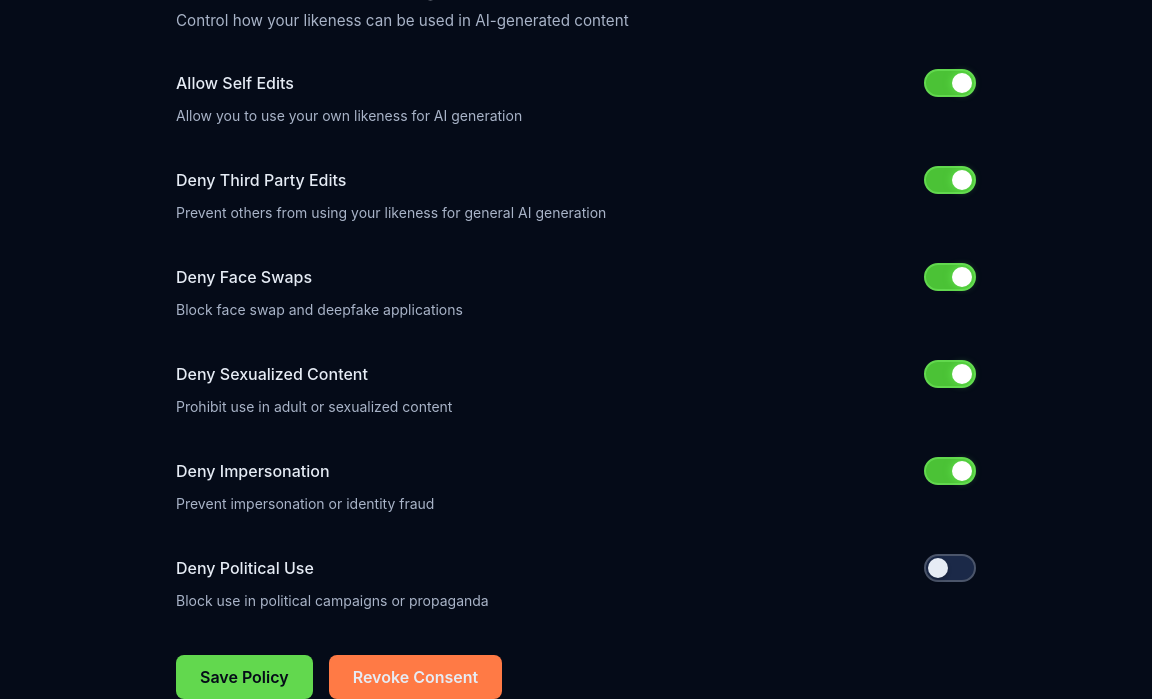
Test case: PolicyForm › clears success message when user makes changes
This screenshot has width=1152, height=699.
Step 1. Click the button "Save Policy" → click(244, 677), box [176,655,313,698]
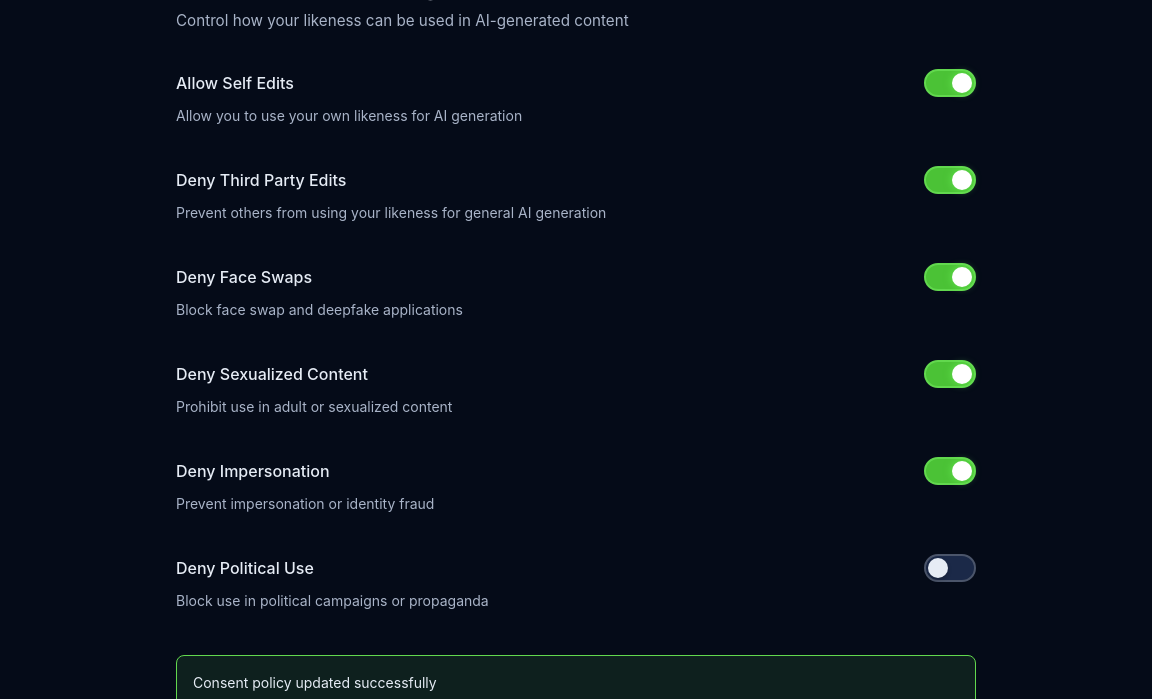
expect the text "Consent policy updated successfully" is shown: met, box [193,674,437,691]
Step 2. Click the switch named "Deny Political Use" → click(950, 568), box [924,554,976,582]
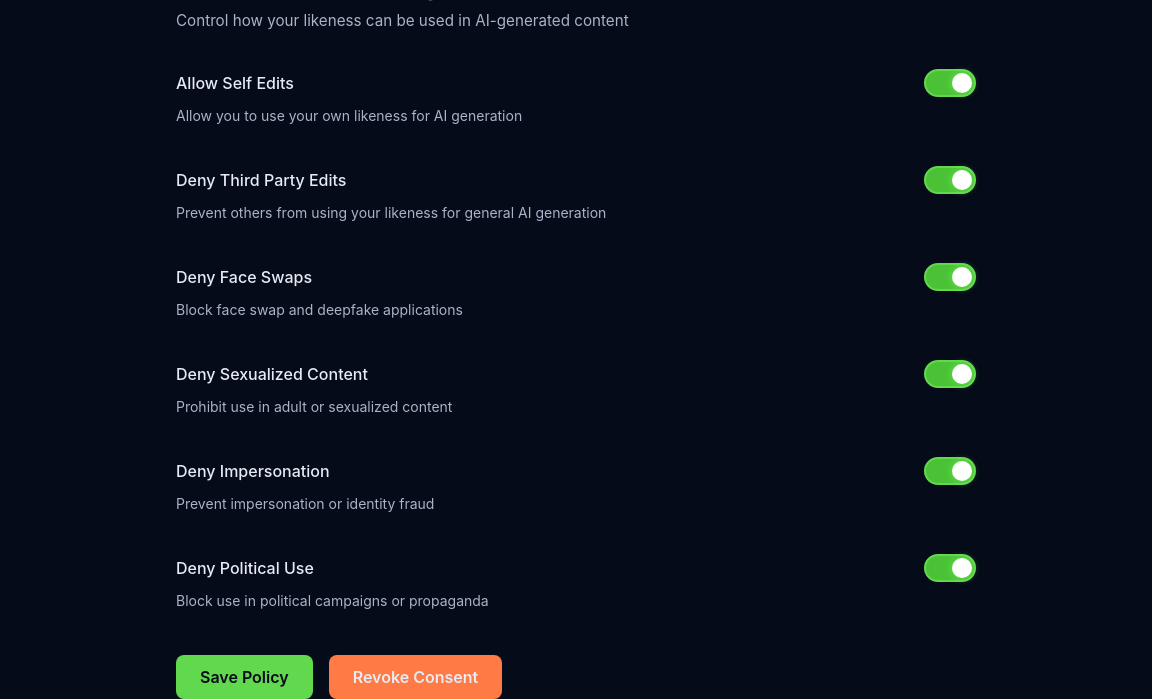
expect the text "Consent policy updated successfully" is gone: met
